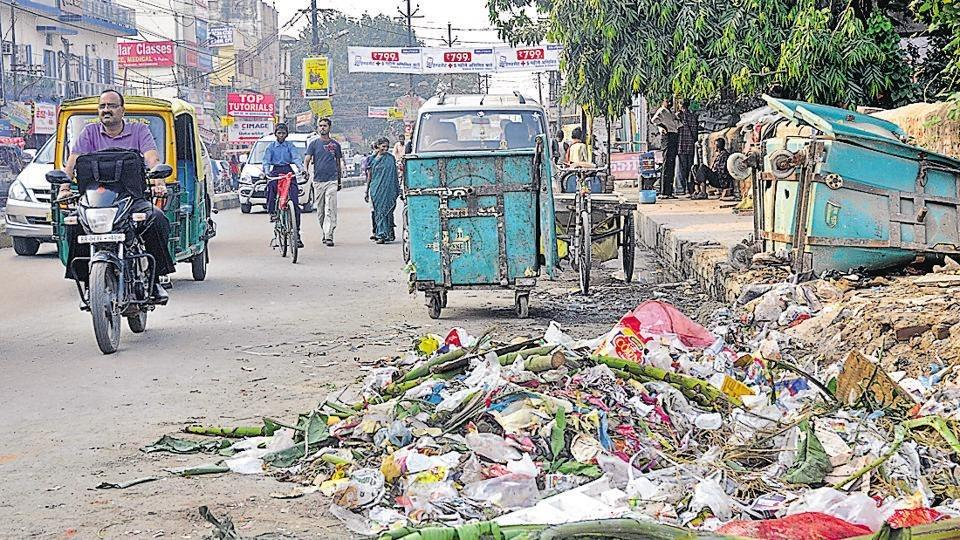trash: (369, 357, 959, 536)
